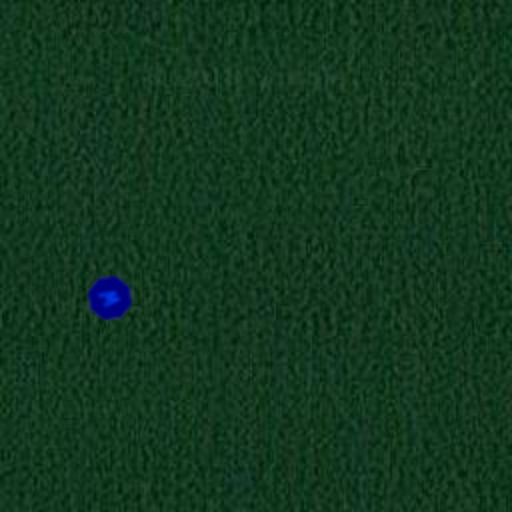octagon: (78, 266, 142, 330)
